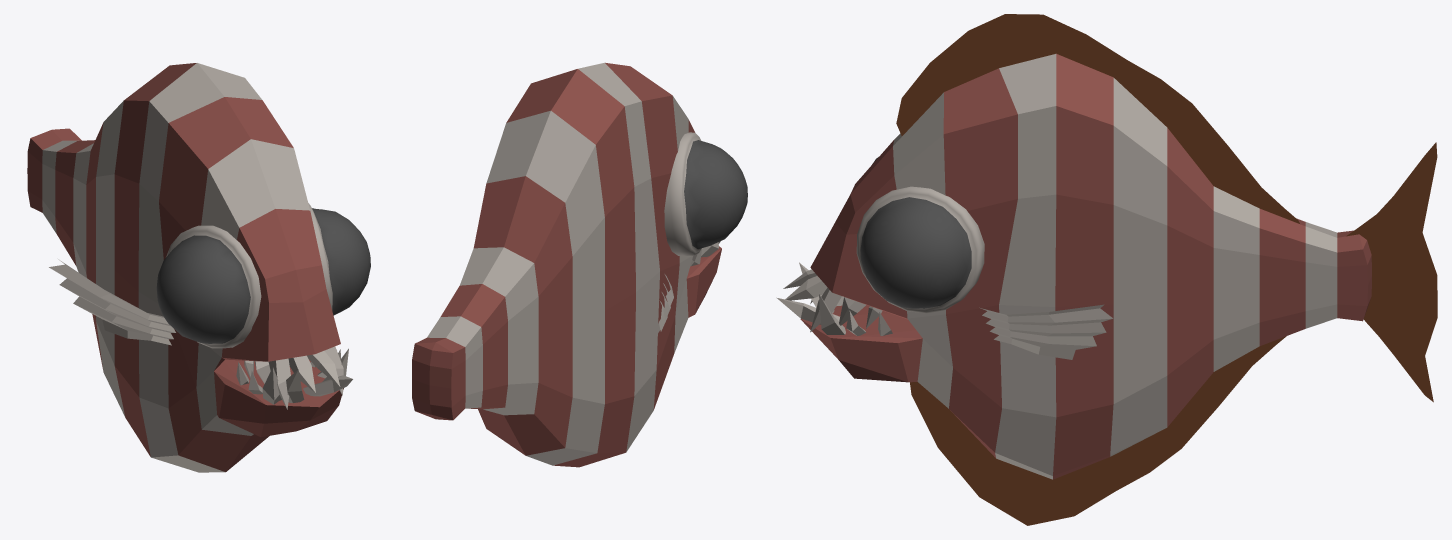
The model's file is flatfish.glb.
The picture shows the model from 3 angles, left to right: view 1: azimuth 30°, elevation 25°; view 2: azimuth 150°, elevation 25°; view 3: azimuth 270°, elevation 25°; orthographic projection. The views are drawn at different scales.
Visible parts, largest first — view 1: cutefish__Flatfish.glb; view 2: cutefish__Flatfish.glb; view 3: cutefish__Flatfish.glb.
Boxes of the visible parts, x1,y1,x2,y2 form: cutefish__Flatfish.glb: (27, 63, 370, 472); cutefish__Flatfish.glb: (412, 62, 747, 467); cutefish__Flatfish.glb: (776, 14, 1437, 525).
Bounding box in the file's own units: 2.09 × 4.05 × 4.74.
